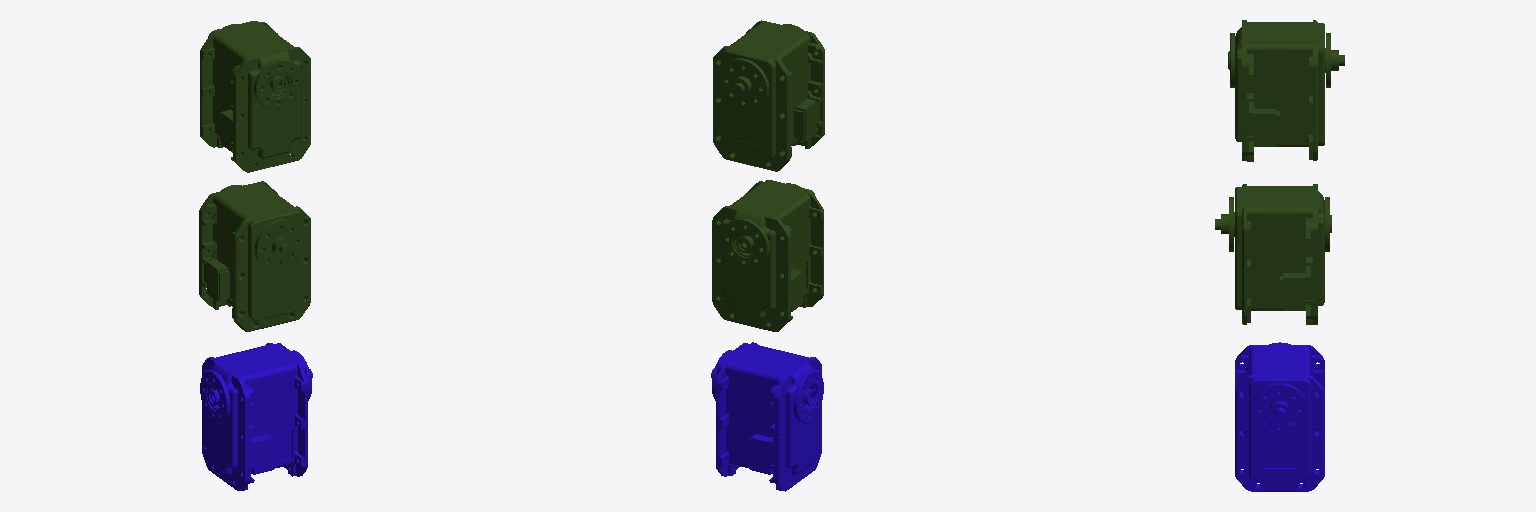
URDF robot description (twoJointsSnake):
<robot name="twoJointsSnake">

  <!-- ros_control plugin -->
  <gazebo>
    <plugin name="gazebo_ros_control" filename="libgazebo_ros_control.so">
      <robotNamespace>/snake</robotNamespace>
      <robotSimType>gazebo_ros_control/DefaultRobotHWSim</robotSimType>
    </plugin>
  </gazebo>

  <material name="Blue">
    <color rgba="0.2 0.1 0.8 1.0"/>
  </material>
  <material name="Green">
    <color rgba="0.22 0.32 0.14 1.0"/>
  </material>

	<!-- attach the base_link to world -->
  <link name="world"/>

  <joint name="fixed" type="fixed">
    <parent link="world"/>
    <child link="base_link"/>
  </joint>

	<link name="base_link">
		<visual>
			<origin
				xyz="0. 0. 0."
				rpy="1.57079632679 0 1.57079632679"
			/>
			<geometry>
				<mesh
					filename="package://snake_robot/snake_description/meshes/servo.stl" scale="0.001 0.001 0.001"/>
			</geometry>
			<material name="Blue"/>
		</visual>
		
		<!-- in gazebo, there has to be a mass and an inertia for each link -->
		<inertial>
      <origin xyz="0 0 0.036" rpy="0 0 0"/>
      <mass value="1"/>
      <inertia
	  ixx="0.1" ixy="0.0" ixz="0.0"
	  iyy="0.1" iyz="0.0"
	  izz="0.1"/>
    </inertial>
	</link>

	<joint name="joint1" type="continuous">
		<origin
			xyz="0. 0. 0."
			rpy="0. 0. 0."
		/>
		<parent link="base_link"/>
		<child link="link2"/>
		<safety_controller k_position="100.0" k_velocity="40.0" soft_lower_limit="-1.5" soft_upper_limit="1.5"/>
		<limit effort="0.01" lower="-1" upper="1" velocity="0.5"/>
		<dynamics damping="0.7"/>
	</joint>

	<link name="link2">
		<visual>
			<origin
				xyz="0. 0. 0.072"
				rpy="1.57079632679 0 0."
			/>
			<geometry>
				<mesh
					filename="package://snake_robot/snake_description/meshes/servo.stl" scale="0.001 0.001 0.001"/>
			</geometry>
			<material name="Green"/>
		</visual>

		<inertial>
	    <origin xyz="0 0 0.036" rpy="0 0 0"/>
	    <mass value="1"/>
	    <inertia
		  ixx="0.1" ixy="0.0" ixz="0.0"
		  iyy="0.1" iyz="0.0"
		  izz="0.1"/>
	    </inertial>
	</link>

	<joint name="joint2" type="continuous">
		<origin
			xyz="0. 0. 0.072"
			rpy="0. 0. 1.57079632679"
		/>
		<parent link="link2"/>
		<child link="link3"/>
		<safety_controller k_position="100.0" k_velocity="40.0" soft_lower_limit="-1.5" soft_upper_limit="1.5"/>
		<limit effort="0.01" lower="-1" upper="1" velocity="0.5"/>
		<dynamics damping="0.7"/>
	</joint>

	<link name="link3">
		<visual>
			<origin
				xyz="0. 0. 0.072"
				rpy="1.57079632679 0 1.57079632679"
			/>
			<geometry>
				<mesh
					filename="package://snake_robot/snake_description/meshes/servo.stl" scale="0.001 0.001 0.001"/>
			</geometry>
			<material name="Green"/>
		</visual>
		
		<inertial>
	    <origin xyz="0 0 0.036" rpy="0 0 0"/>
	    <mass value="1"/>
	    <inertia
		  ixx="0.1" ixy="0.0" ixz="0.0"
		  iyy="0.1" iyz="0.0"
		  izz="0.1"/>
	  </inertial>
	</link>

<transmission name="trans1">
  <type>transmission_interface/SimpleTransmission</type>
  <joint name="joint1">
    <hardwareInterface>hardware_interface/PositionJointInterface</hardwareInterface>
  </joint>
  <actuator name="servo1">
    <mechanicalReduction>1</mechanicalReduction>
    <hardwareInterface>hardware_interface/PositionJointInterface</hardwareInterface>
  </actuator>
</transmission>

<transmission name="trans2">
  <type>transmission_interface/SimpleTransmission</type>
  <joint name="joint2">
    <hardwareInterface>hardware_interface/PositionJointInterface</hardwareInterface>
  </joint>
  <actuator name="servo2">
    <mechanicalReduction>1</mechanicalReduction>
    <hardwareInterface>hardware_interface/PositionJointInterface</hardwareInterface>
  </actuator>
</transmission>

</robot>

--- Facts derived from the render (not from the file) ---
3 views of the same robot in one strip: view 1: azimuth 30°, elevation 25°; view 2: azimuth 150°, elevation 25°; view 3: azimuth 270°, elevation 25° (orthographic).
Robot: twoJointsSnake — 4 links, 3 joints (2 continuous, 1 fixed); root link world; default pose: every joint at zero.
Visible links, largest first — view 1: link3, link2, base_link; view 2: link2, link3, base_link; view 3: base_link, link3, link2.
Boxes of the visible links, box(x1,y1,x2,y2) form: link3: box(200, 21, 310, 172); link2: box(199, 181, 310, 331); base_link: box(200, 343, 312, 490); link2: box(712, 180, 823, 331); link3: box(713, 20, 824, 171); base_link: box(711, 342, 823, 491); base_link: box(1235, 342, 1324, 491); link3: box(1228, 20, 1344, 161); link2: box(1215, 184, 1331, 324).
Size in the robot's own frame: 0.0464 by 0.0517 by 0.1946 metres.
Meshes: 1 distinct files referenced, 3 mesh visuals loaded (1 binary STL).